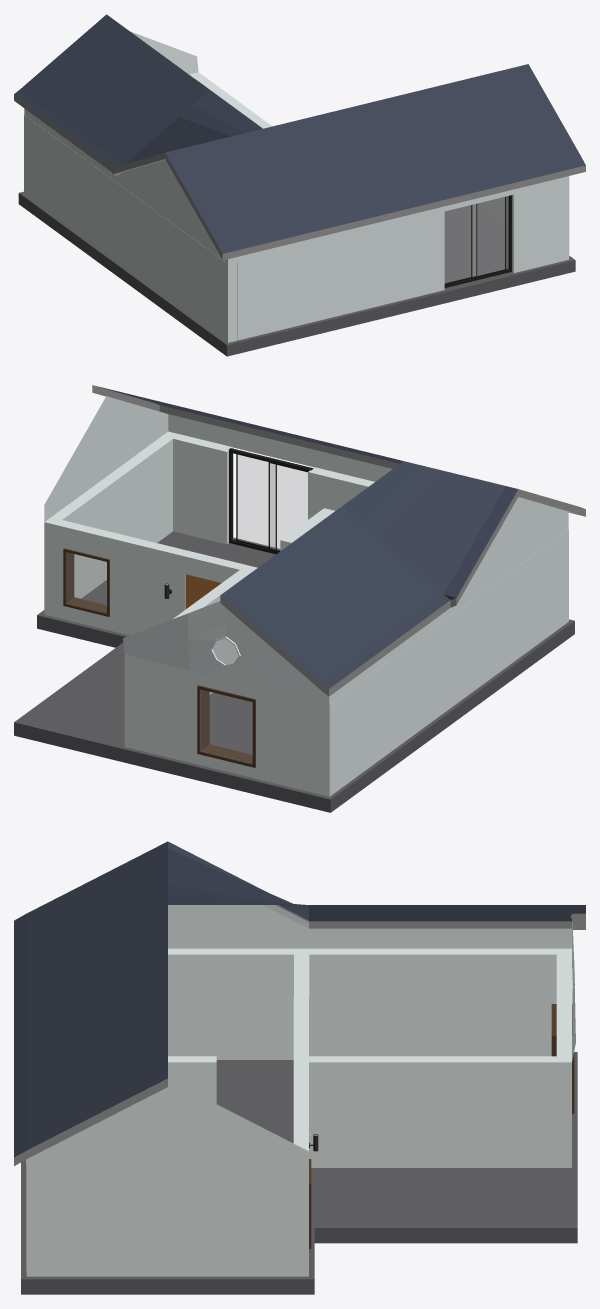
File: maisonCoupee.glb
The picture shows the model from 3 angles, top to bottom: view 1: azimuth 30°, elevation 25°; view 2: azimuth 150°, elevation 25°; view 3: azimuth 270°, elevation 25°; orthographic projection. The views are drawn at different scales.
Parts seen in each view (by area): view 1: Cube_8.003, Mur_Ch02_Ext_01, Mur_Ch02_Ext_02, Cube_8.002, Cube_8, Mur_Ch01_Ext_02, Fenetre_Ch01_02, Sol_Ch01, Cube_8.001, Cube.004_4; view 2: Cube_8.003, Cube_8, Mur_Ch02_Ext_02, Cube_8.002, Mur_Ch03_Ext_03, Mur_Ch01_Ext_05, Mur_Ch01_Int_01, Fenetre_Ch01_02, Cube_8.001, Mur_Ch01_Int_02, Fenetre_Ch03.001, Sol_Ch03 (+6 smaller); view 3: Cube_8.003, Mur_Ch01_Ext_01, Mur_Ch03_Ext_04, Cube_8, Cube_8.002, Mur_Ch03_Int_02, Mur_Ch02_Int_02, Cube_8.001, Sol_Ch02, Mur_Ch01_Int_04.
Part boxes in pixels (<box>): Cube_8.003: <box>14,14,585,260</box>; Mur_Ch02_Ext_01: <box>228,211,444,342</box>; Mur_Ch02_Ext_02: <box>24,115,227,342</box>; Cube_8.002: <box>18,191,575,356</box>; Cube_8: <box>24,31,569,263</box>; Mur_Ch01_Ext_02: <box>513,181,569,272</box>; Fenetre_Ch01_02: <box>445,197,504,282</box>; Sol_Ch01: <box>444,203,508,283</box>; Cube_8.001: <box>30,72,513,340</box>; Cube.004_4: <box>444,195,511,287</box>; Cube_8.003: <box>92,385,585,696</box>; Cube_8: <box>44,396,568,767</box>; Mur_Ch02_Ext_02: <box>329,529,568,796</box>; Cube_8.002: <box>14,531,574,812</box>; Mur_Ch03_Ext_03: <box>124,654,329,796</box>; Mur_Ch01_Ext_05: <box>44,522,239,635</box>; Mur_Ch01_Int_01: <box>62,439,172,598</box>; Fenetre_Ch01_02: <box>237,455,307,550</box>; Cube_8.001: <box>44,431,562,743</box>; Mur_Ch01_Int_02: <box>173,439,226,544</box>; Fenetre_Ch03.001: <box>201,690,252,762</box>; Sol_Ch03: <box>209,693,252,754</box>; Cube_8.003: <box>14,841,585,1165</box>; Mur_Ch01_Ext_01: <box>26,1171,308,1276</box>; Mur_Ch03_Ext_04: <box>309,1062,571,1167</box>; Cube_8: <box>26,905,575,1248</box>; Cube_8.002: <box>21,1052,577,1294</box>; Mur_Ch03_Int_02: <box>309,954,556,1056</box>; Mur_Ch02_Int_02: <box>168,954,293,1059</box>; Cube_8.001: <box>26,948,571,1270</box>; Sol_Ch02: <box>216,1060,293,1143</box>; Mur_Ch01_Int_04: <box>168,1062,216,1103</box>.
Bounding box in the file's own units: 49.33 × 21.47 × 50.31.
